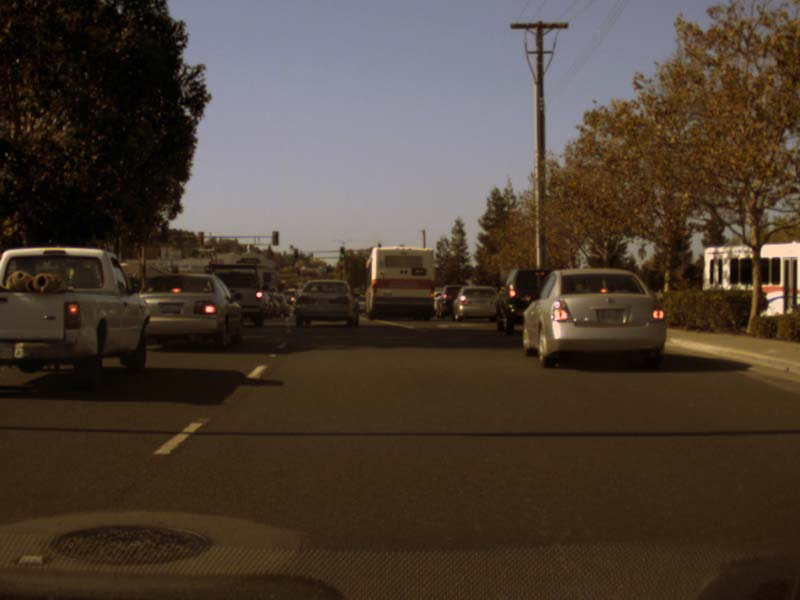Green: (339, 247, 344, 259)
Red: (293, 249, 297, 258)
